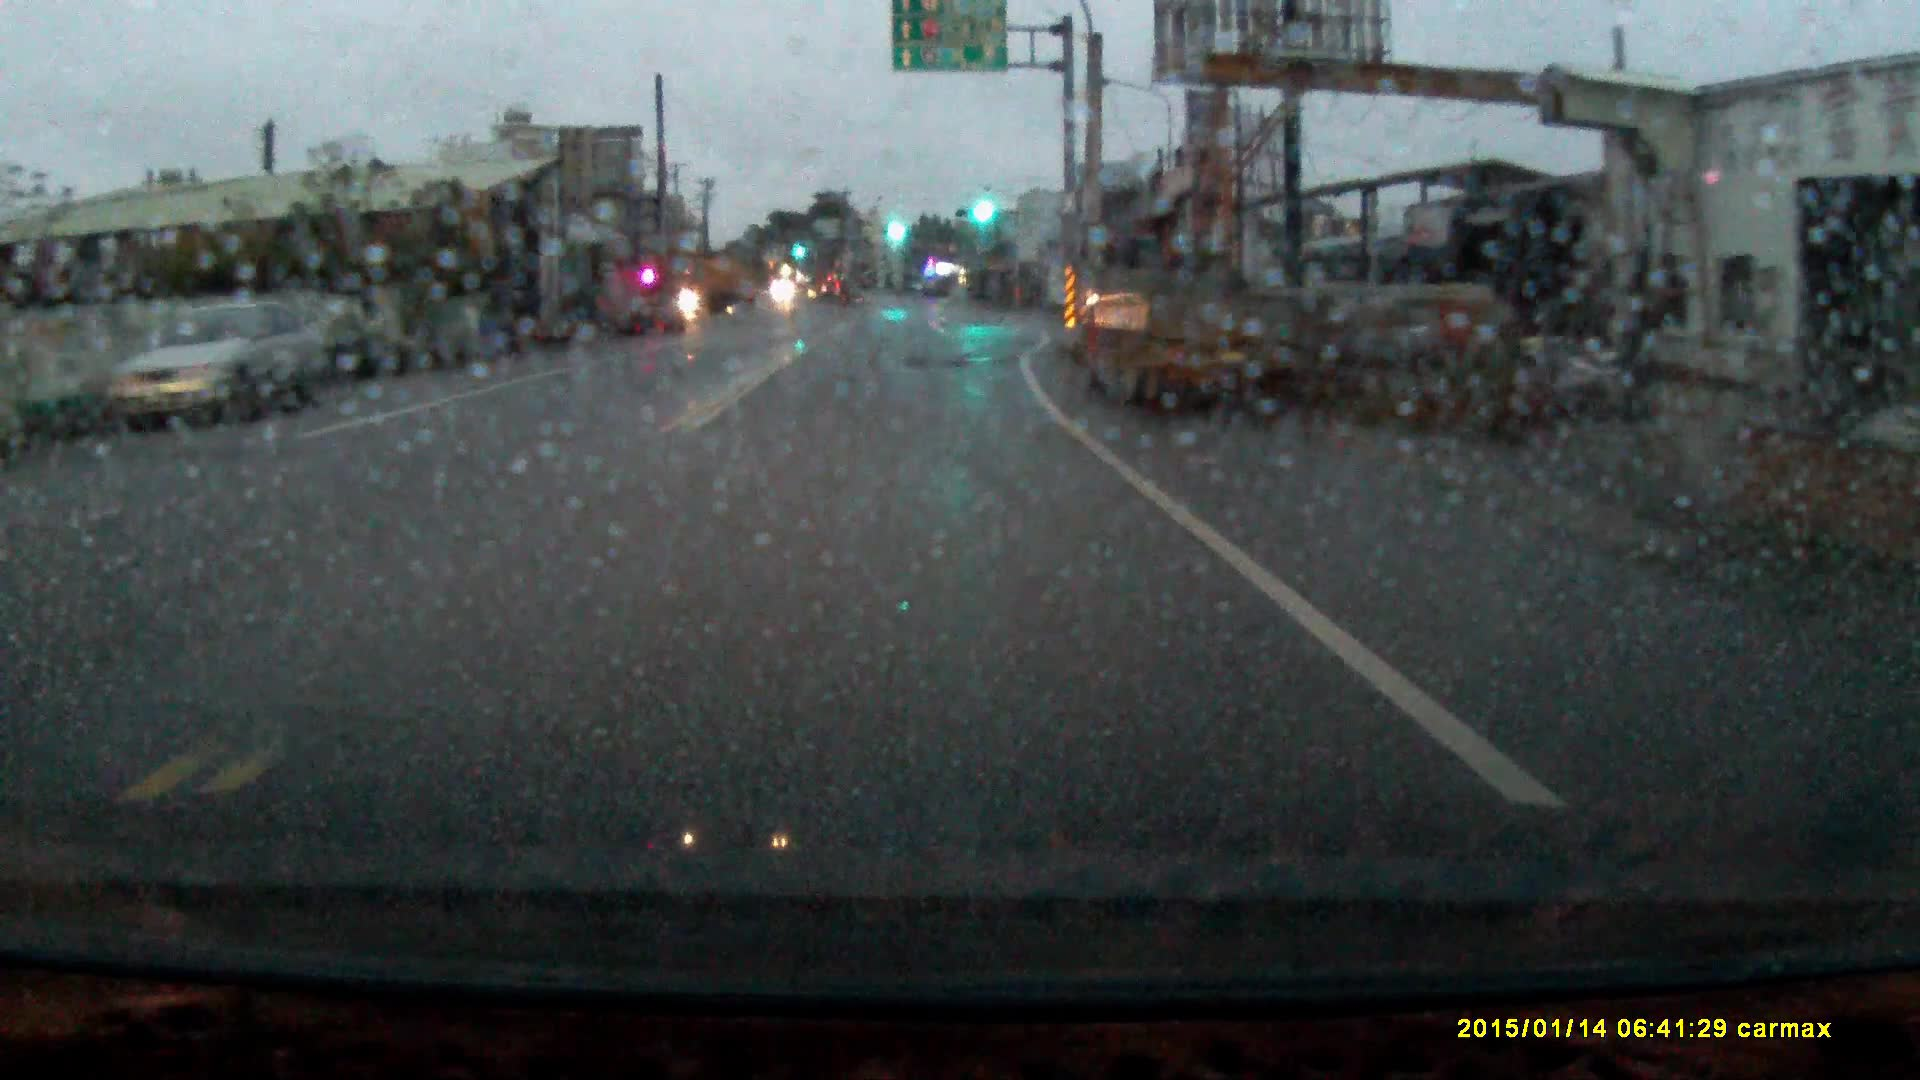vehicle: (1073, 231, 1312, 427), (109, 303, 320, 433), (669, 258, 756, 320)
